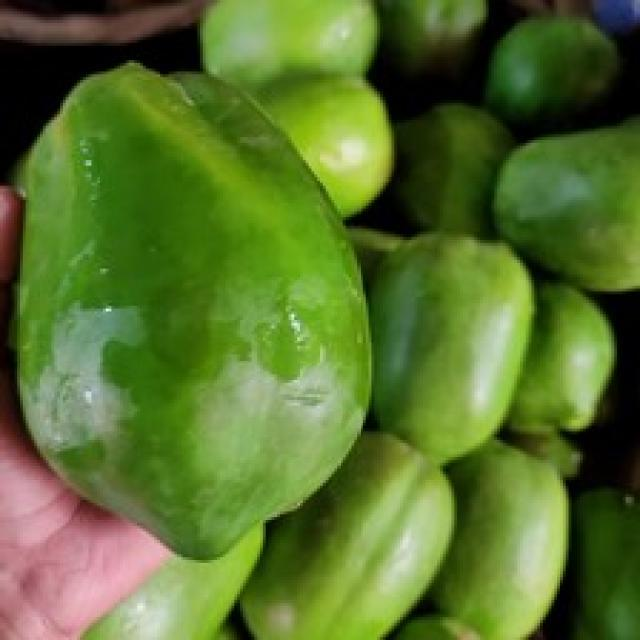Pepaya unrippen: (12, 50, 381, 576)
